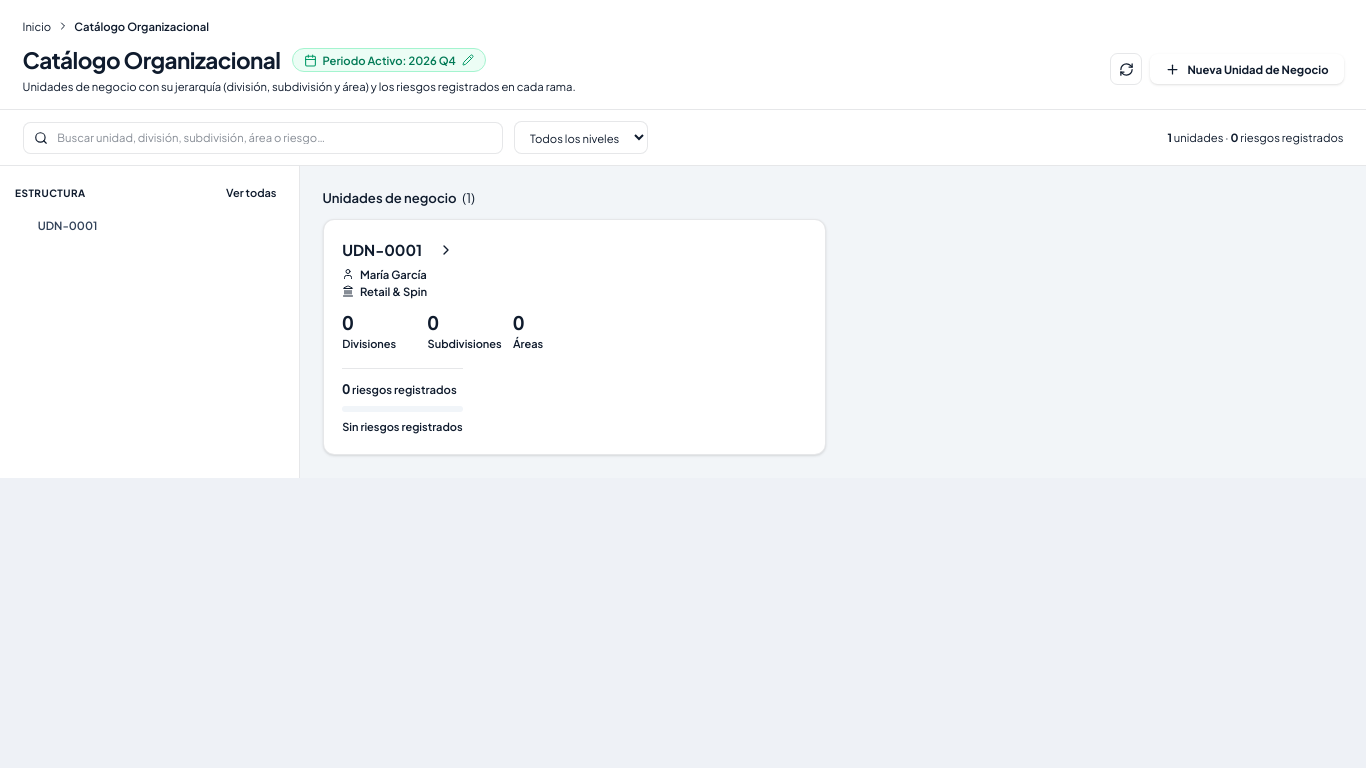
Scenario: Catálogo de estructura organizacional (HierarchyView) › CP-FE-05 (AC3): con auditorías activas muestra el bloqueo en el diálogo de eliminación
Click the button with test id "tarjeta-unidad-10".
click(382, 249)  # box 322,219 -> 826,455
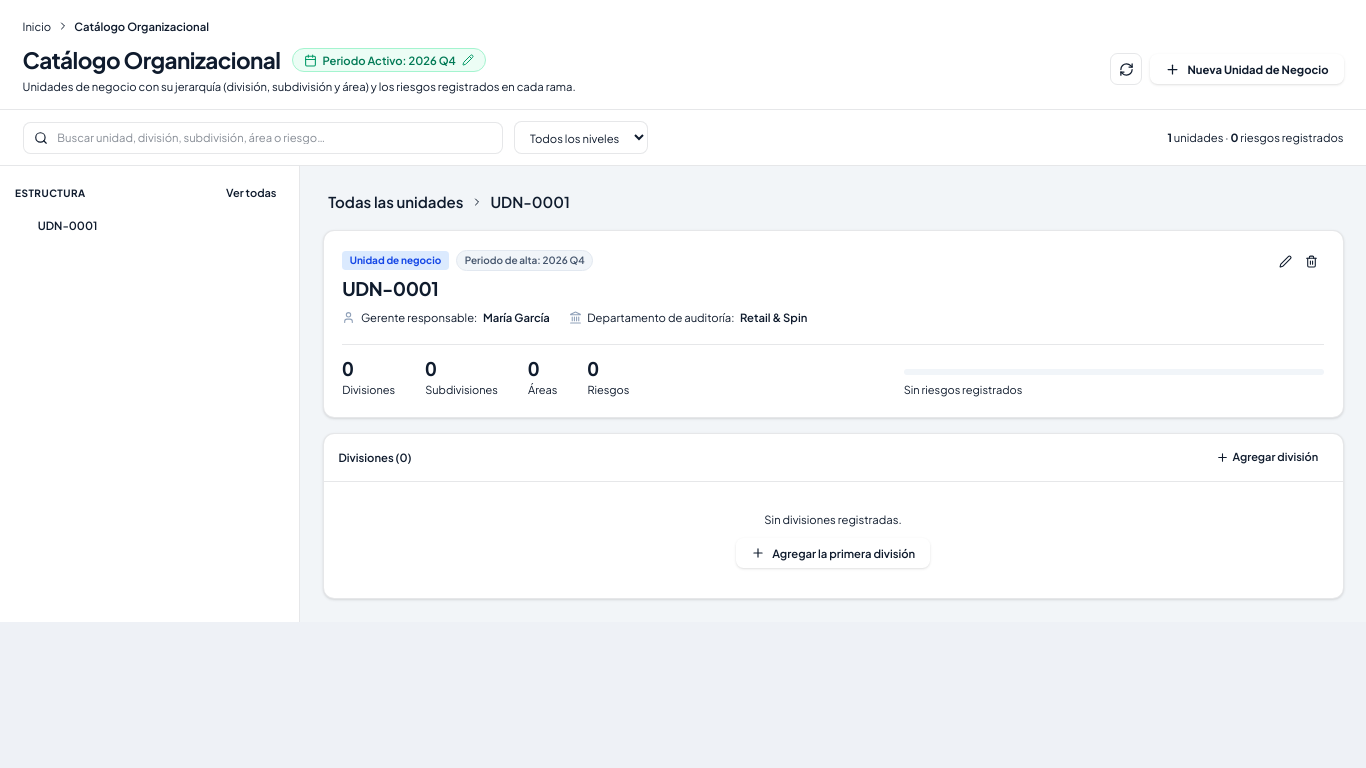
Click the button with test id "btn-eliminar-encabezado".
click(1312, 262)  # box 1300,250 -> 1324,274
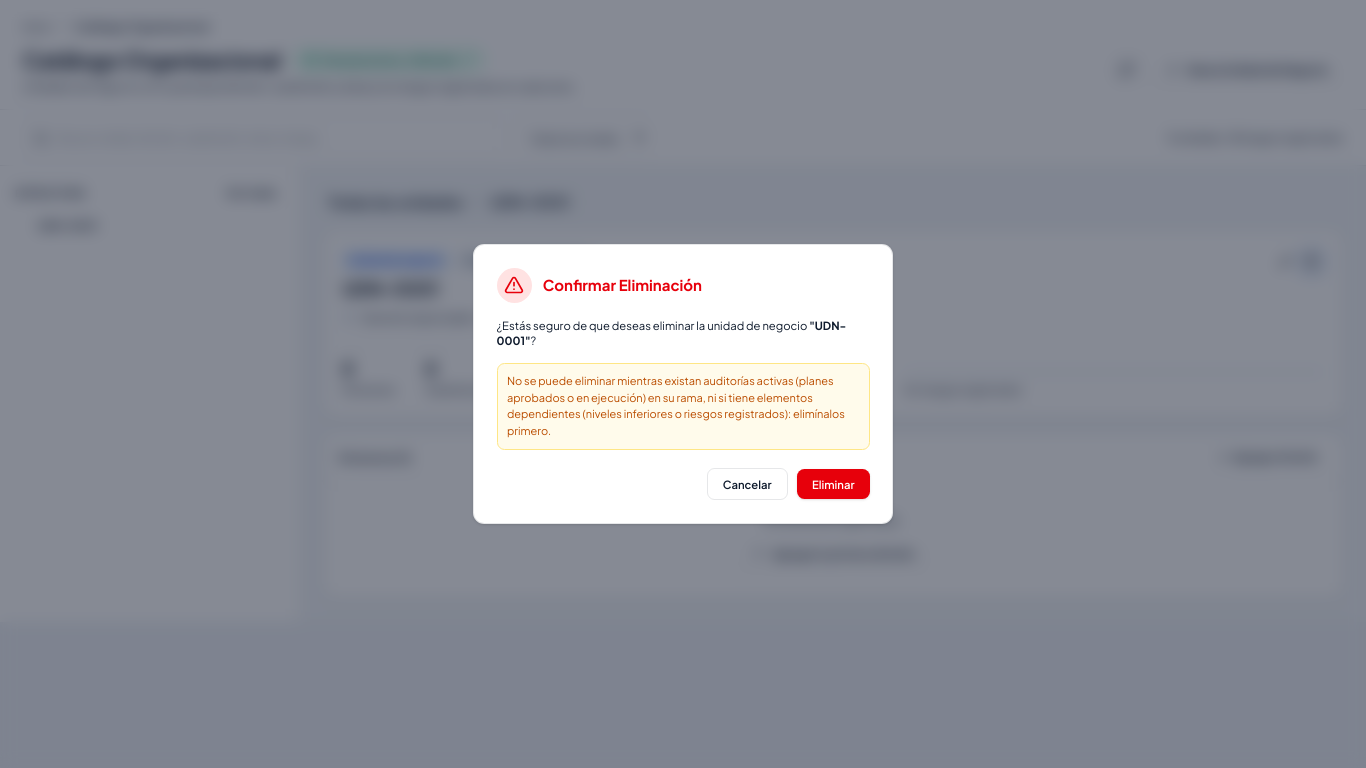
Click the button with test id "btn-confirmar-eliminar".
click(833, 484)  # box 797,469 -> 870,499
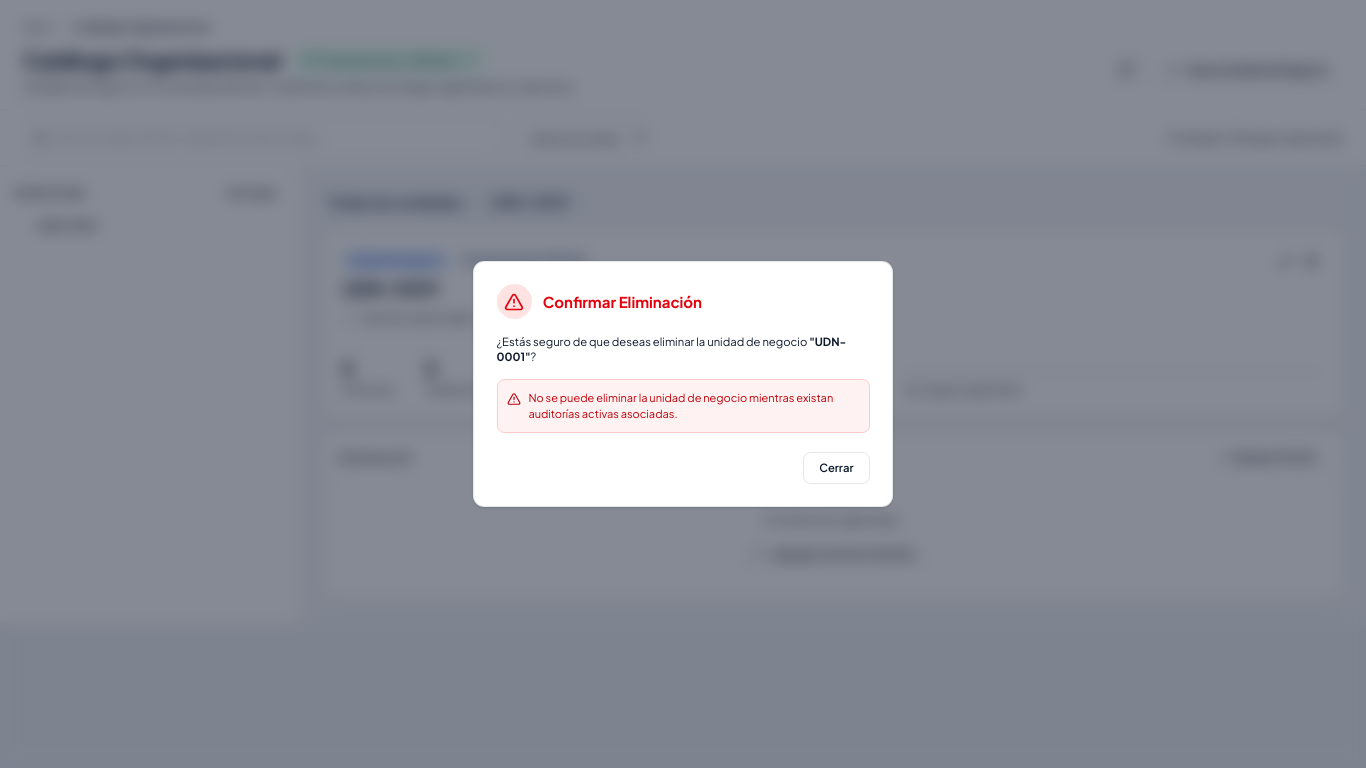
Now the heading "UDN-0001" is shown, box 342,277 -> 438,300
Now the message with test id "error-eliminacion" shows "No se puede eliminar la unidad de negocio mientras existan auditorías activas asociadas.", box 528,391 -> 833,420
